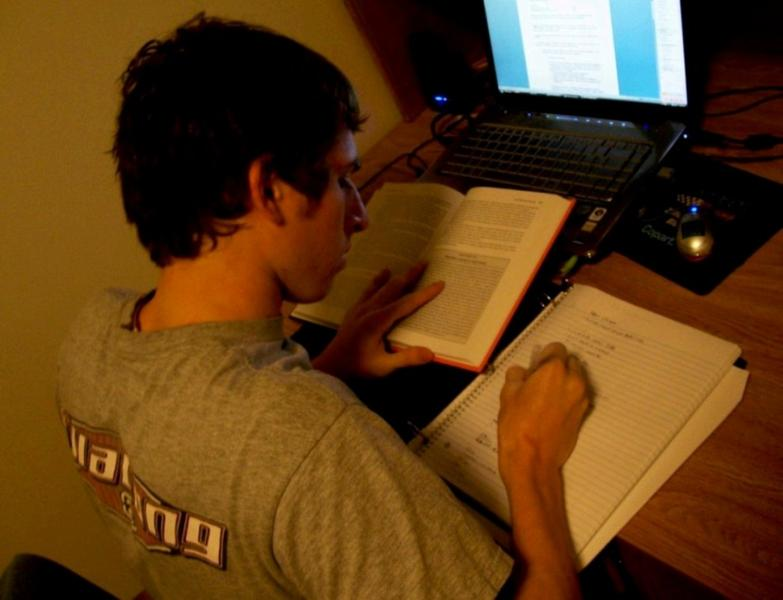person: (57, 12, 596, 598)
